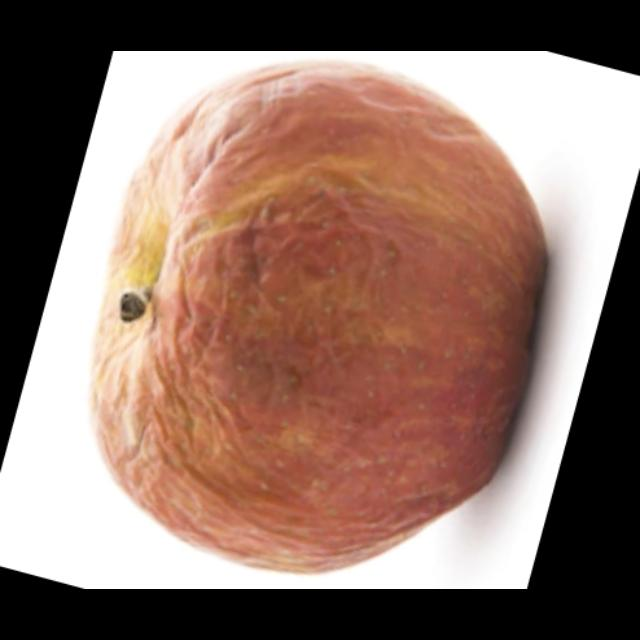Apel Tidak Segar: (82, 52, 560, 583)
